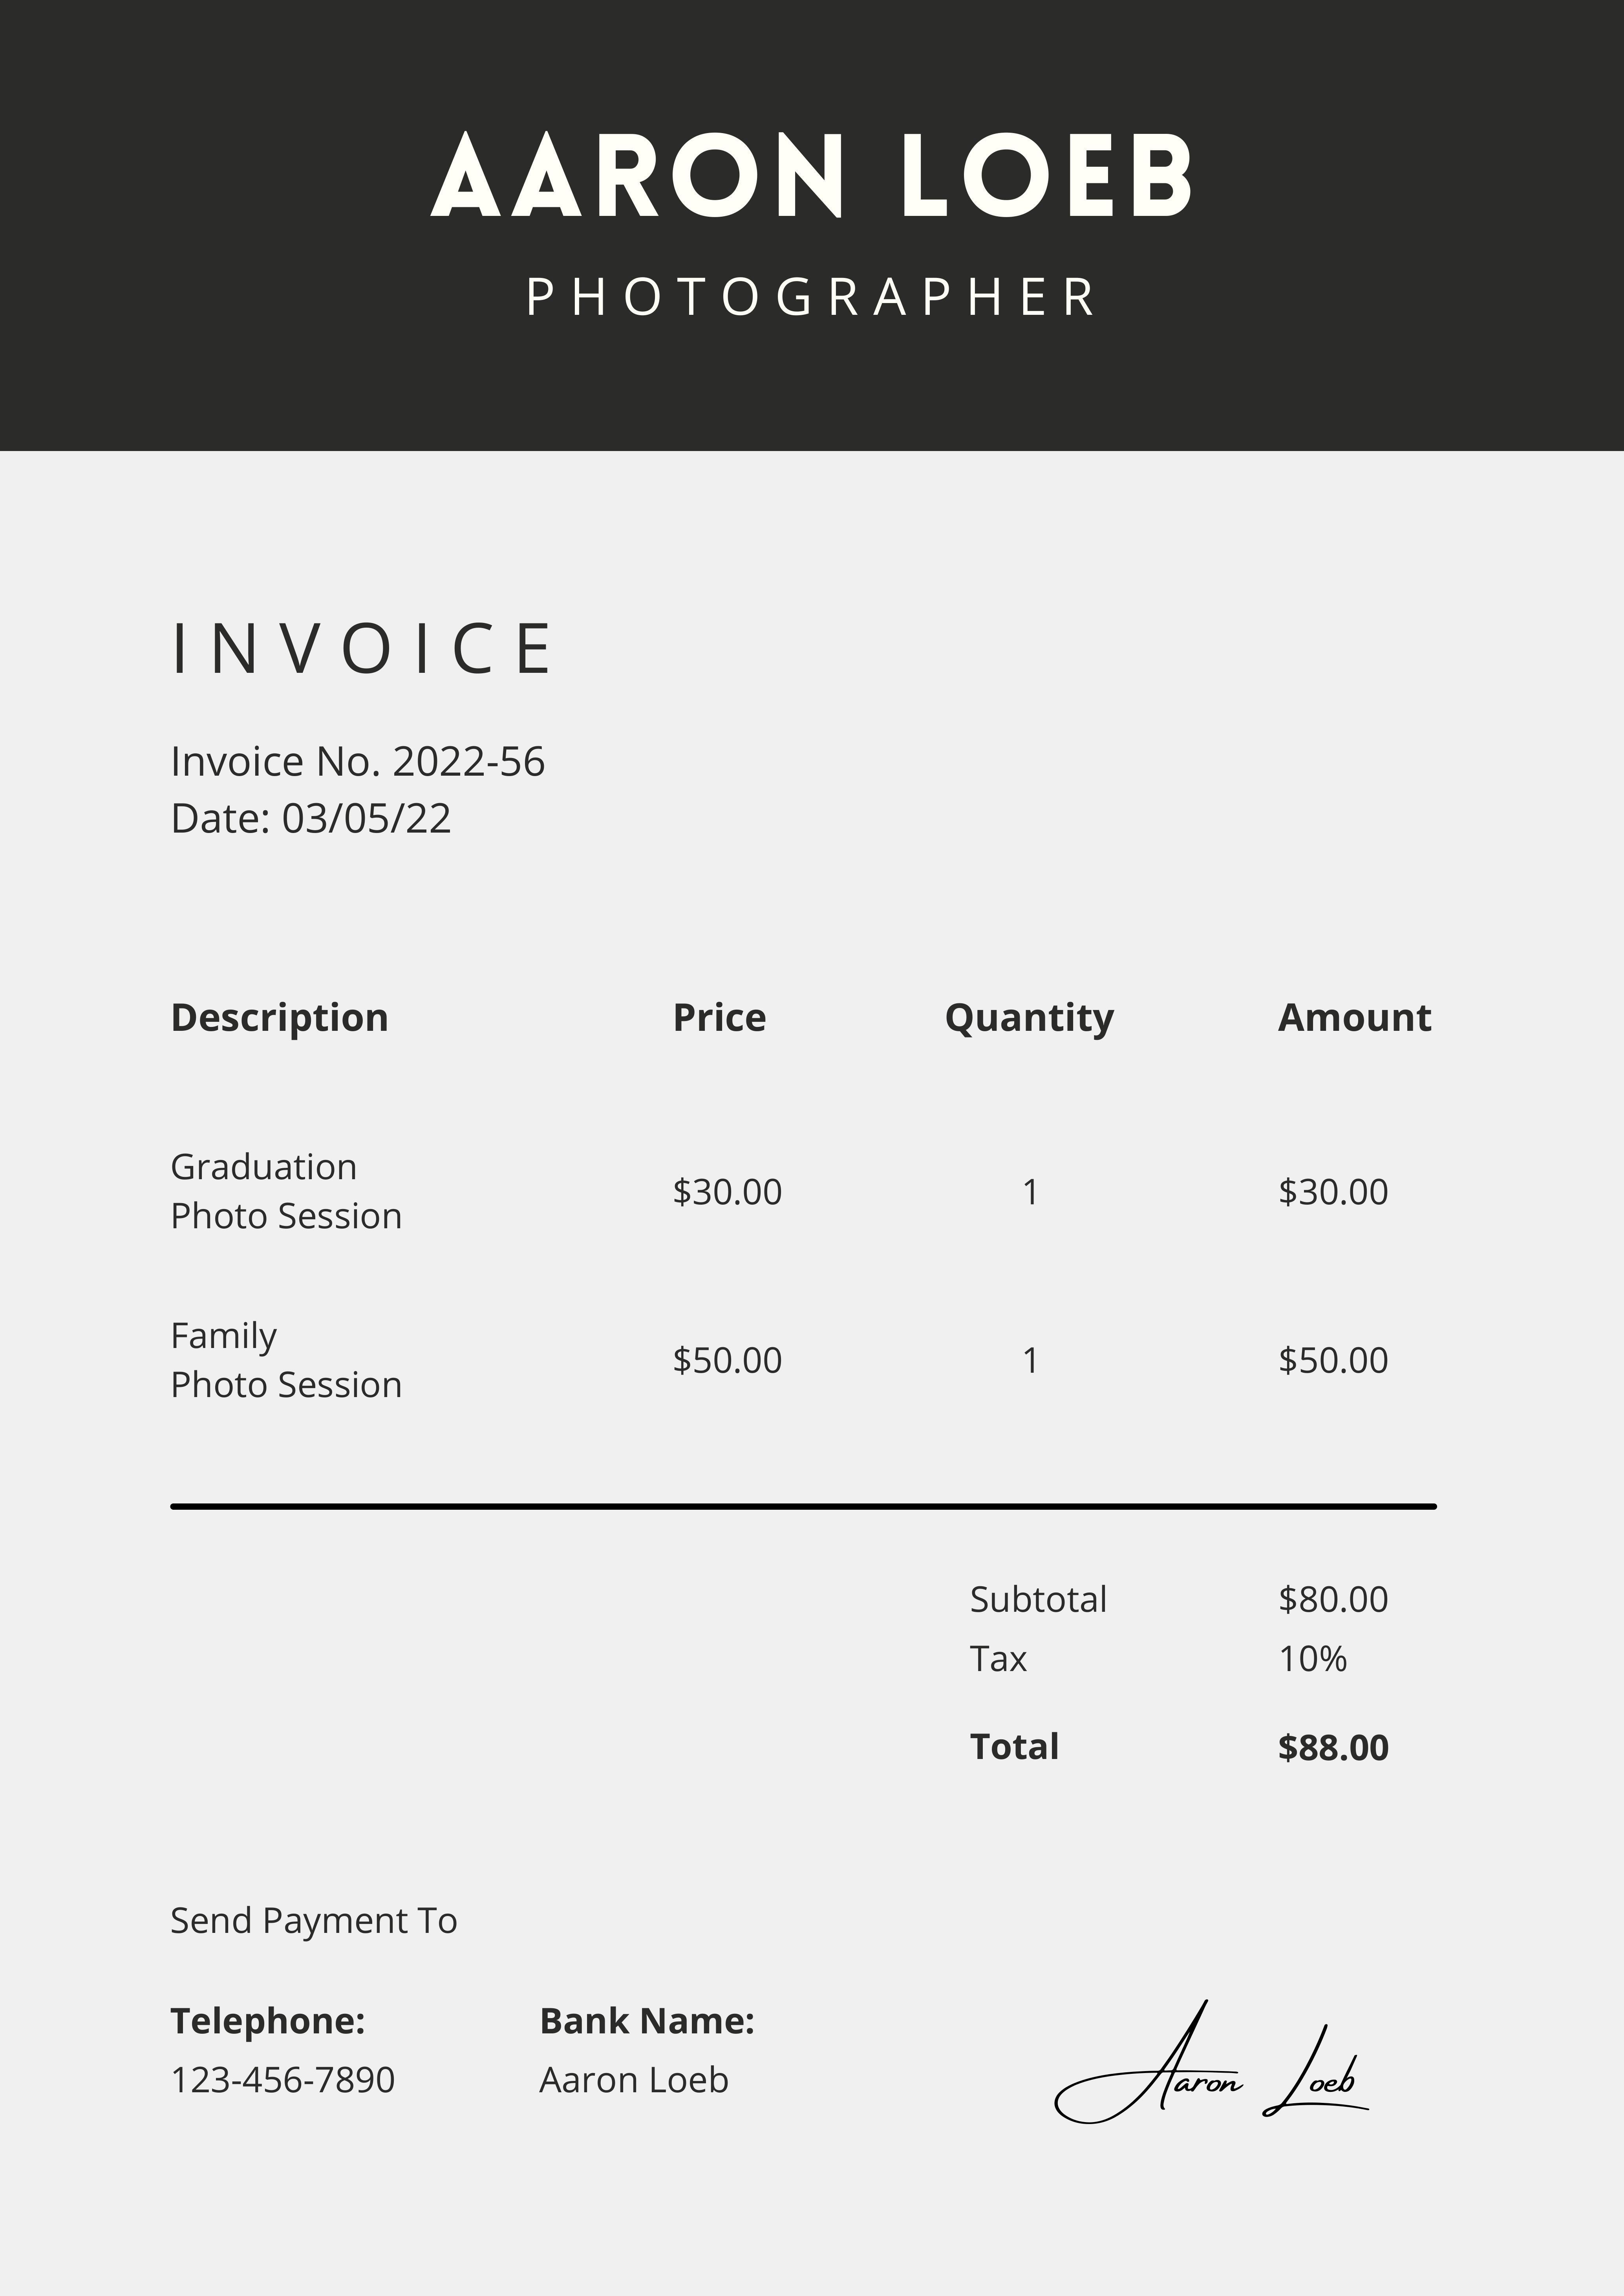ROI: (134, 931, 1439, 1523), (130, 1850, 845, 2141), (397, 88, 1236, 249), (954, 1548, 1436, 1797), (130, 734, 582, 856)
